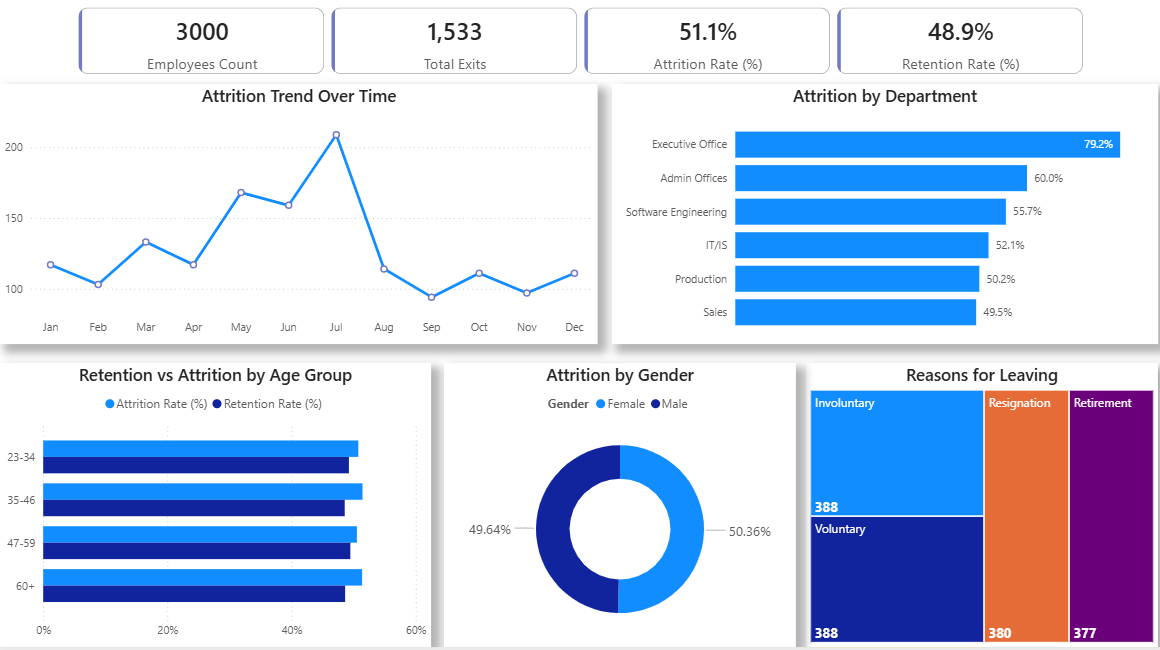

The page's visual inventory and layout, read from the dashboard file:
{"tool":"powerbi","page":{"name":"Employee Retention & Attrition Analysis","canvas":[1300,800],"ordinal":0},"visuals":[{"type":"shape","box":[0,0,1300,81.1],"z":0},{"type":"pageNavigator","box":[704.4,6.7,586.7,67.8],"z":1000},{"type":"cardVisual","fields":{"Data":["Key Measures.Employees","Key Measures.Exited Employees","Key Measures.Attrition Rate (%)","Key Measures.Retention Rate (%)"]},"box":[86.7,84.4,1126.7,84.4],"z":2000},{"type":"lineChart","title":"Attrition Trend Over Time","fields":{"Category":["Calender.Months"],"Y":["Key Measures.Total Exits"]},"box":[4.4,174.4,664.4,288.9],"z":3000},{"type":"barChart","title":"Attrition by Department","fields":{"Category":["Employee Data.Department"],"Y":["Key Measures.Attrition Rate (%)"]},"box":[684.4,174.4,606.7,288.9],"z":4000},{"type":"clusteredBarChart","title":"Retention vs Attrition by Age Group","fields":{"Category":["Employee Data.Age Group (5 Bins)"],"Y":["Key Measures.Attrition Rate (%)","Key Measures.Retention Rate (%)"]},"box":[4.4,484.4,478.9,315.6],"z":5000},{"type":"treemap","title":"Reasons for Leaving","fields":{"Group":["Employee Data.Termination Type"],"Values":["Key Measures.Total Exits"]},"box":[900,484.4,391.1,315.6],"z":6000},{"type":"donutChart","title":"Attrition by Gender","fields":{"Category":["Employee Data.Gender"],"Y":["Key Measures.Attrition Rate (%)"]},"box":[497.8,484.4,391.1,315.6],"z":7000}]}

Visuals, with their boxes on the page's 1300x800 design canvas (x1, y1, x2, y2). These are canvas units, not pixel positions in the 1160x650 screenshot, which may show the page scaled, cropped or inside an application window:
shape: <box>0,0,1300,81</box>
pageNavigator: <box>704,7,1291,74</box>
cardVisual - Key Measures.Employees x Key Measures.Exited Employees: <box>87,84,1213,169</box>
"Attrition Trend Over Time" lineChart: <box>4,174,669,463</box>
"Attrition by Department" barChart: <box>684,174,1291,463</box>
"Retention vs Attrition by Age Group" clusteredBarChart: <box>4,484,483,800</box>
"Reasons for Leaving" treemap: <box>900,484,1291,800</box>
"Attrition by Gender" donutChart: <box>498,484,889,800</box>
